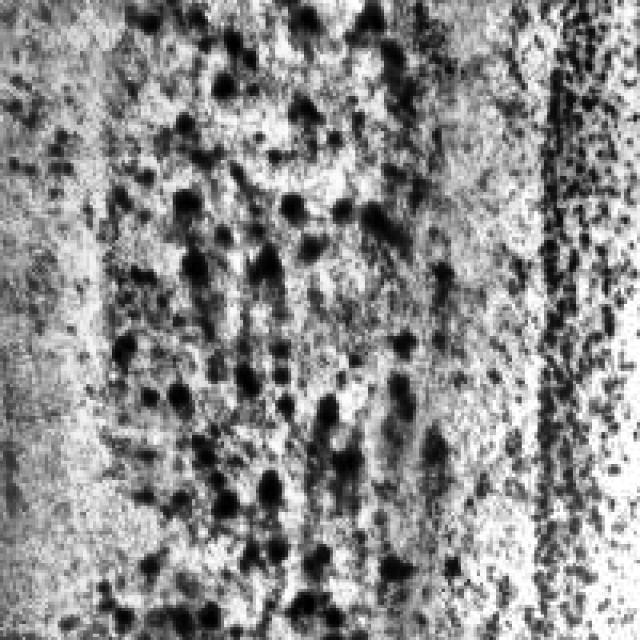Rolled_in_Scale: (109, 7, 438, 630), (534, 0, 630, 589)
